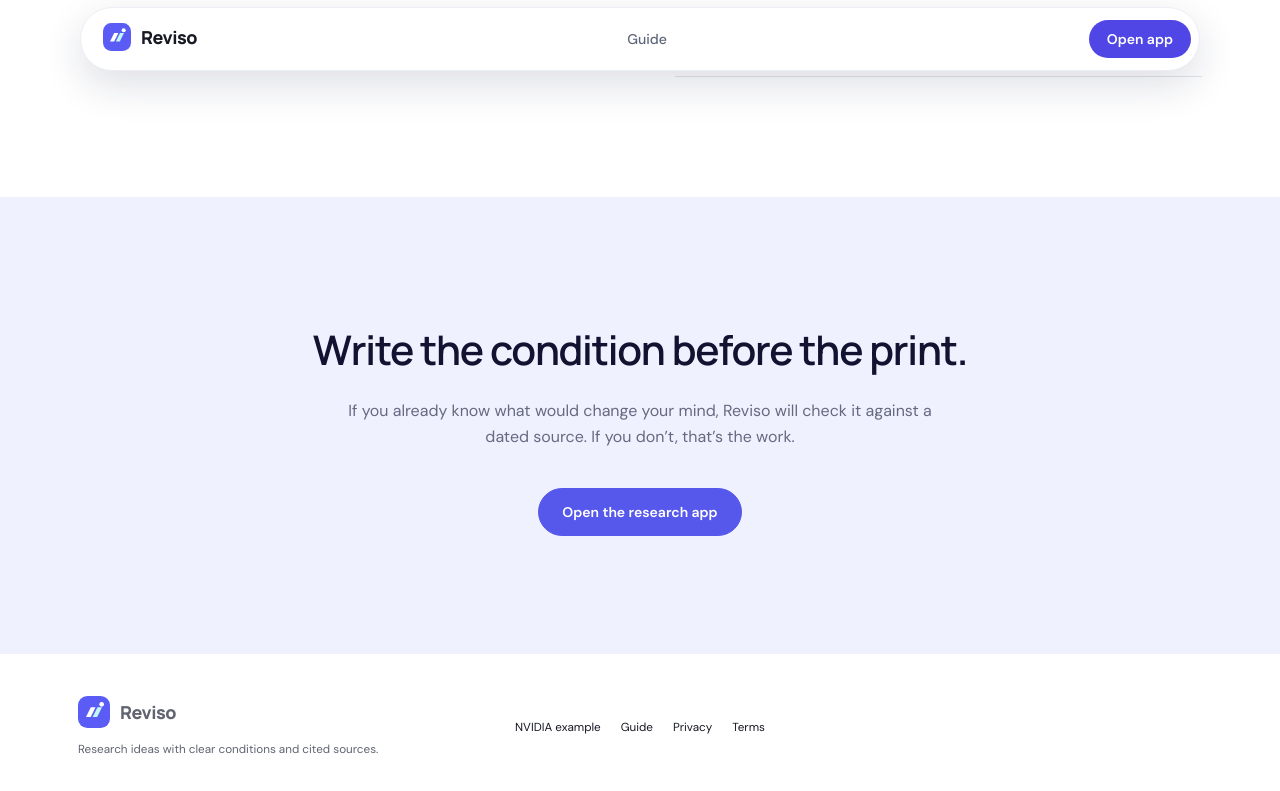
the footer Privacy link opens its page at the top
(page scrolled)
What coordinates should you click on to do the following:
click the link "Privacy"
I would click on:
 (693, 727)
Its box is [673, 719, 712, 735].
(page scrolled)
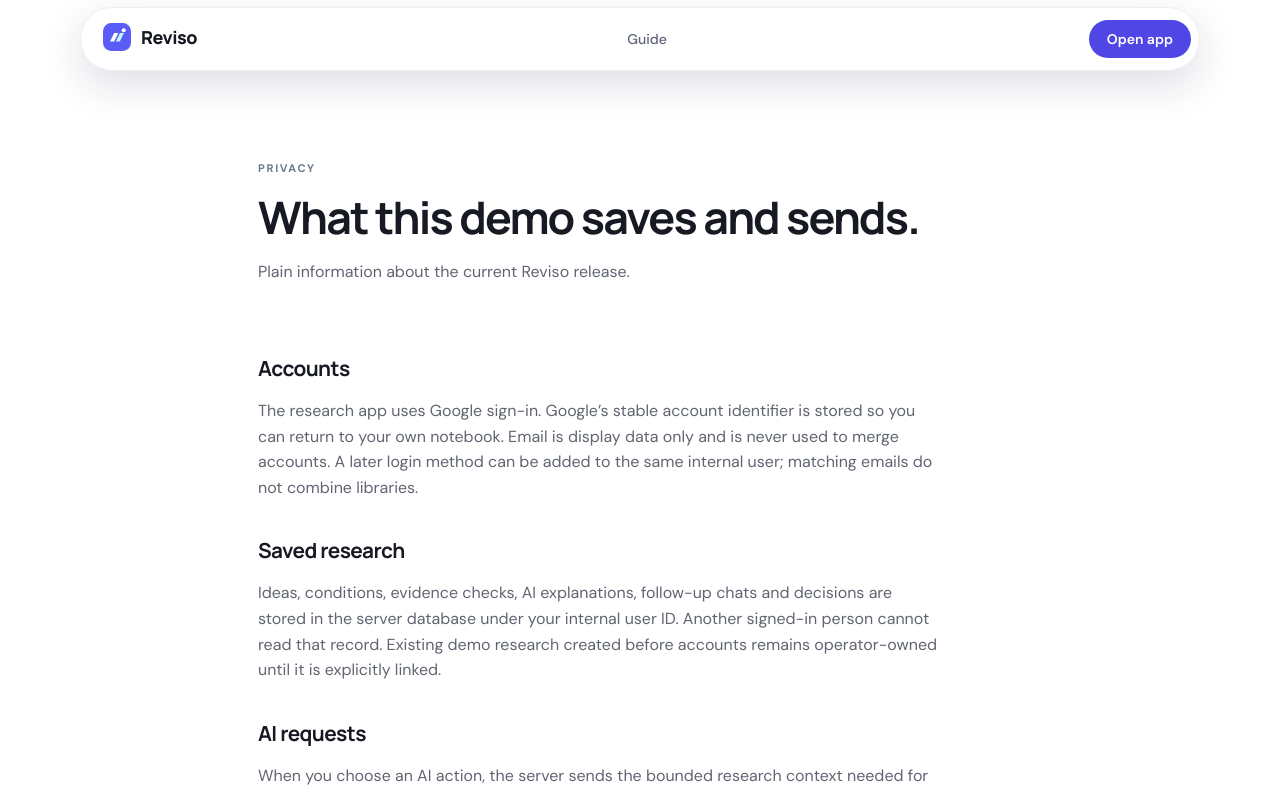
Expected: the heading "What this demo saves and sends." is shown, [258, 191, 1022, 242]
